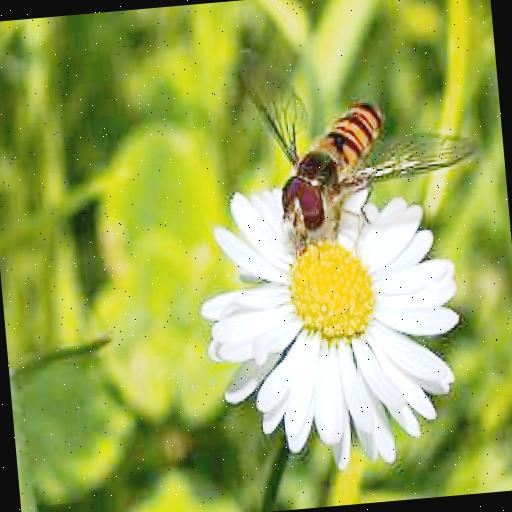daisy: (211, 166, 462, 469)
